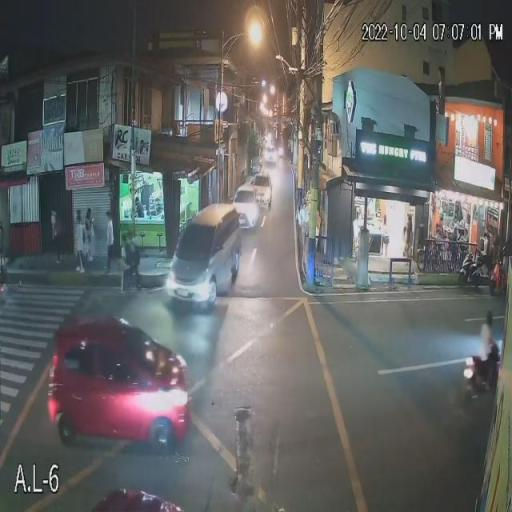motorcycle: (461, 348, 505, 398)
rider: (474, 308, 504, 369)
